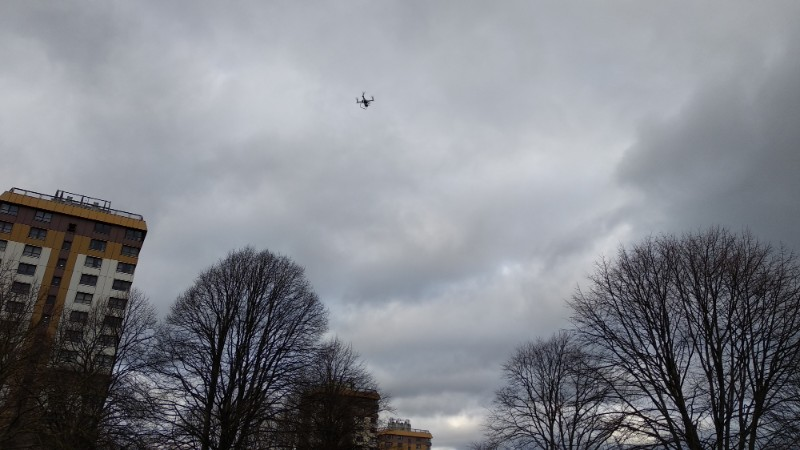drone: (356, 92, 375, 109)
